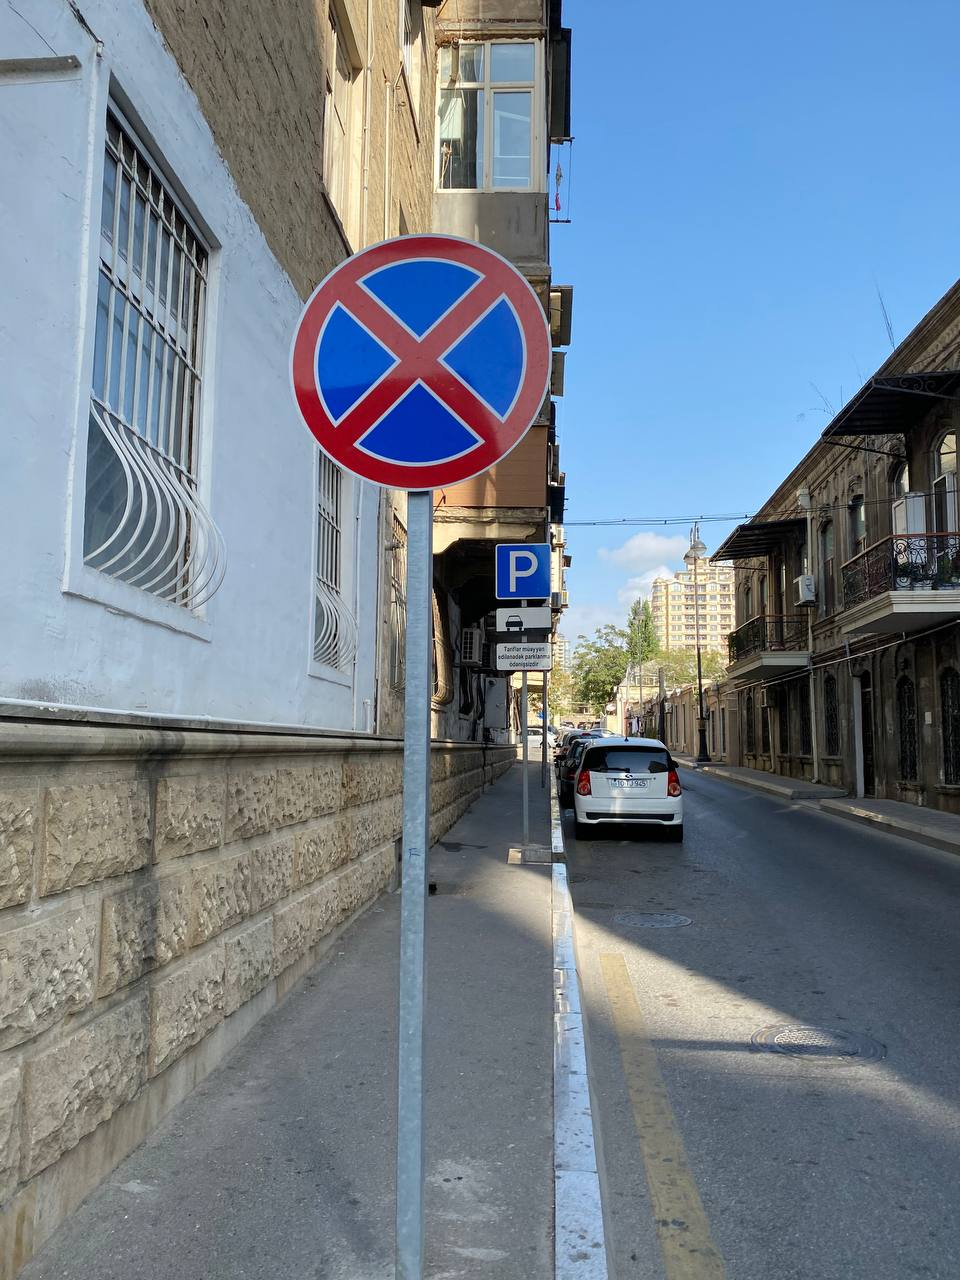No Parking: (289, 233, 552, 492)
Parking-Sign: (495, 543, 551, 600)
